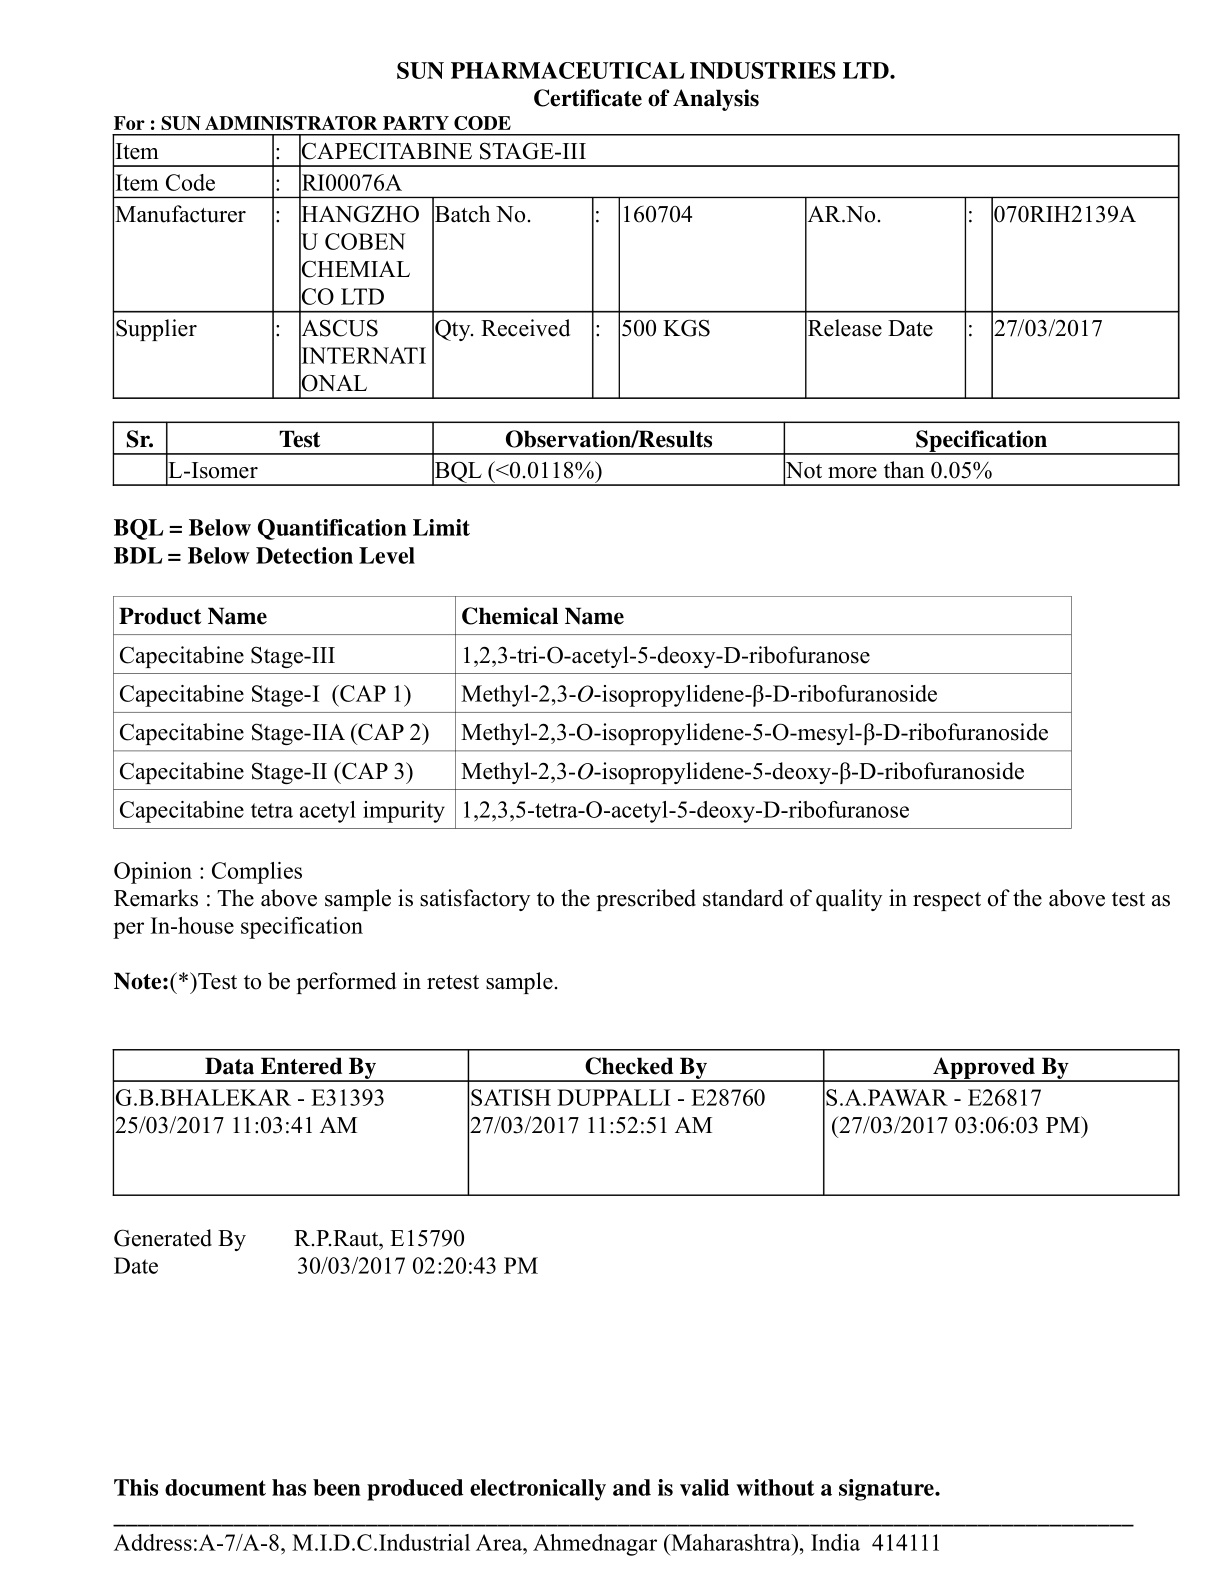full_lined: (112, 132, 1182, 400), (112, 595, 1074, 831), (112, 1048, 1182, 1198), (111, 420, 1182, 487)
